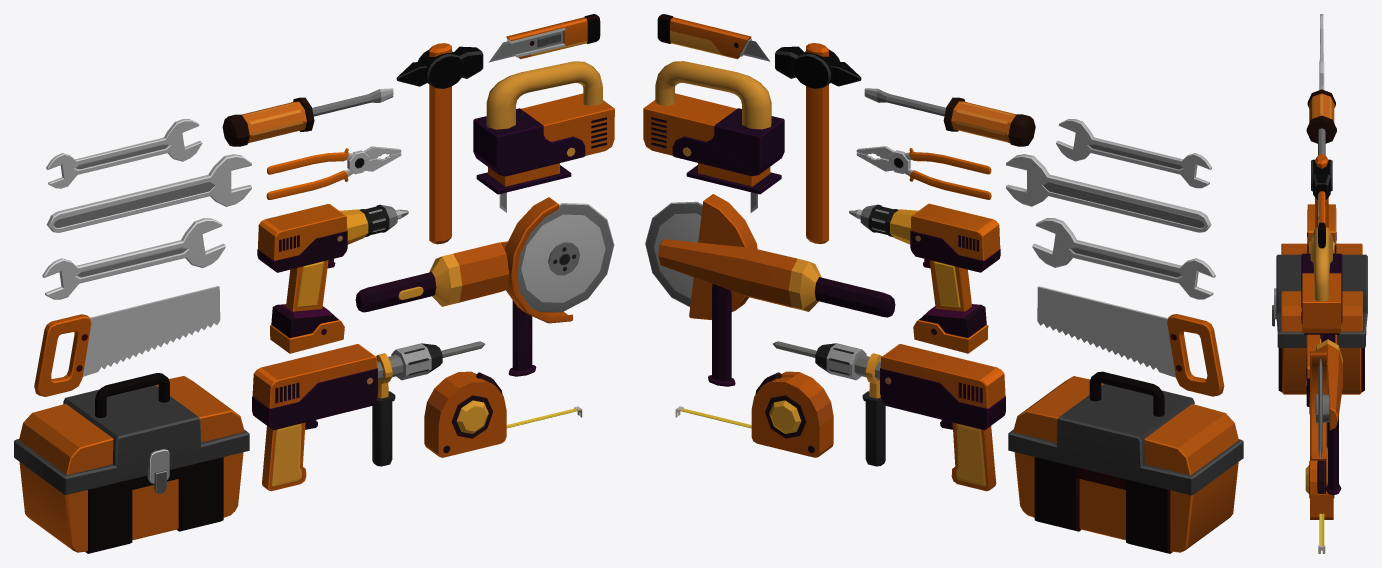
File: construction_tools_2_pack.fbx
3 renders of one model, left to right at view 1: azimuth 30°, elevation 25°; view 2: azimuth 150°, elevation 25°; view 3: azimuth 270°, elevation 25°, orthographic. The views are drawn at different scales.
Parts seen in each view (by area): view 1: tool box top., circular saw, impact drill, fretsaw, tool box bottom, screwdriver, saw, hammer, construction tape, spanner2, spanner3, flat screwdriver (+3 smaller); view 2: tool box top., circular saw, impact drill, tool box bottom, fretsaw, screwdriver, saw, hammer, construction tape, spanner2, spanner3, flat screwdriver (+3 smaller); view 3: tool box top., circular saw, fretsaw, tool box bottom, construction tape, flat screwdriver, hammer, screwdriver, impact drill, stationery knife, spanner1.
Part boxes in pixels (x1,y1,x2,y2): tool box top.: (14,373,249,494); circular saw: (355,197,614,376); impact drill: (252,341,484,491); fretsaw: (473,61,614,212); tool box bottom: (19,452,243,553); screwdriver: (257,204,408,353); saw: (34,286,220,396); hammer: (396,43,483,244); construction tape: (424,371,582,457); spanner2: (46,154,251,232); spanner3: (42,218,225,299); flat screwdriver: (222,88,393,146); tool box top.: (1008,371,1243,495); circular saw: (645,194,895,386); impact drill: (773,341,1005,491); tool box bottom: (1014,452,1238,553); fretsaw: (643,61,784,212); screwdriver: (849,203,1000,353); saw: (1037,286,1224,396); hammer: (775,43,861,244); construction tape: (675,371,833,457); spanner2: (1006,154,1211,232); spanner3: (1032,218,1215,299); flat screwdriver: (864,88,1035,146); tool box top.: (1272,243,1367,347); circular saw: (1310,334,1342,495); fretsaw: (1301,227,1342,337); tool box bottom: (1278,348,1364,394); construction tape: (1305,447,1334,553); flat screwdriver: (1306,89,1336,154); hammer: (1311,154,1332,227); screwdriver: (1307,204,1336,253); impact drill: (1306,334,1337,447); stationery knife: (1318,191,1325,248); spanner1: (1319,14,1323,89).
Bounding box in the file's own units: 2734 × 1833 × 467.
